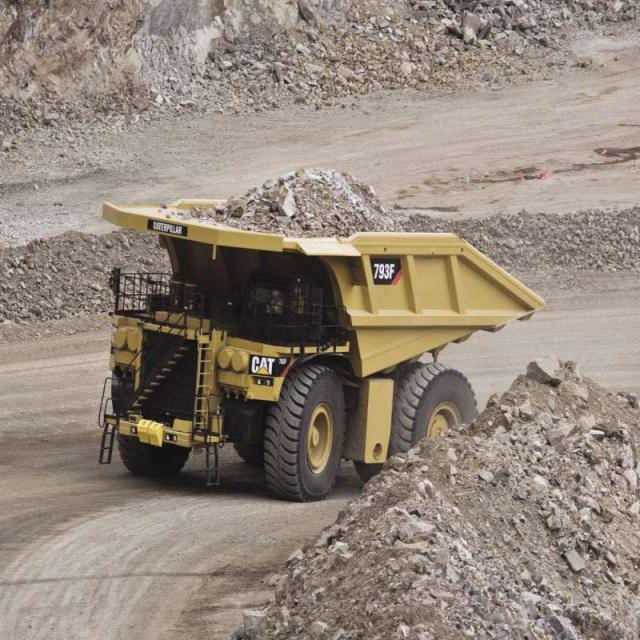dump_truck: (99, 158, 554, 509)
